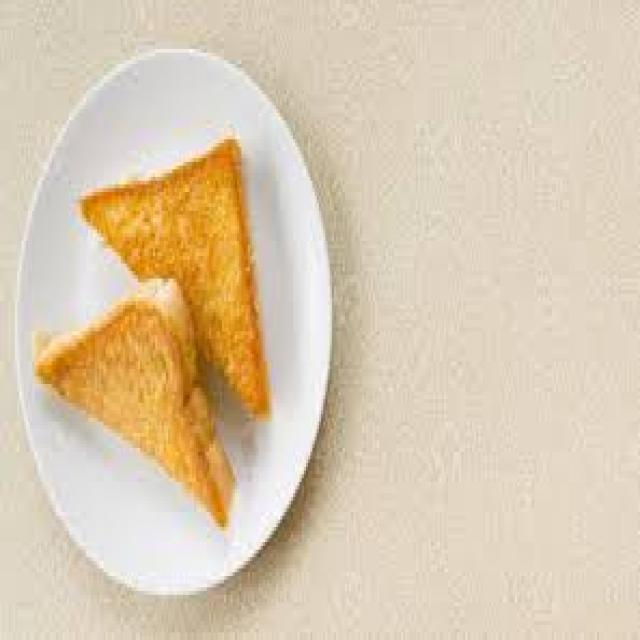Bread: (80, 140, 269, 416), (35, 280, 232, 525)
